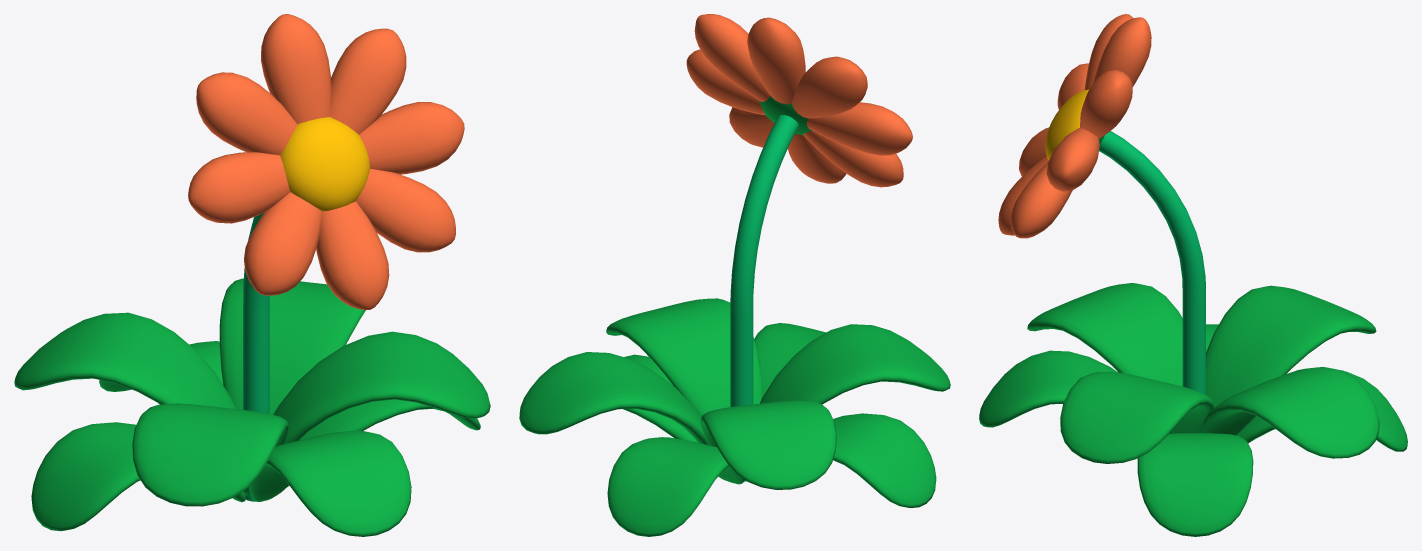
The model's file is City_17_Flower_Plant_2.glb.
3 renders of one model, left to right at view 1: azimuth 30°, elevation 25°; view 2: azimuth 150°, elevation 25°; view 3: azimuth 270°, elevation 25°, orthographic. The views are drawn at different scales.
Parts seen in each view (by area): view 1: City_17_Flower_Plant_2; view 2: City_17_Flower_Plant_2; view 3: City_17_Flower_Plant_2.
Part boxes in pixels (left/top/right/bottom): City_17_Flower_Plant_2: left=14, top=14, right=490, bottom=536; City_17_Flower_Plant_2: left=519, top=14, right=950, bottom=536; City_17_Flower_Plant_2: left=979, top=14, right=1407, bottom=536.
Bounding box in the file's own units: 0.6275 × 0.7085 × 0.6183.
1 material, 1 textured.
